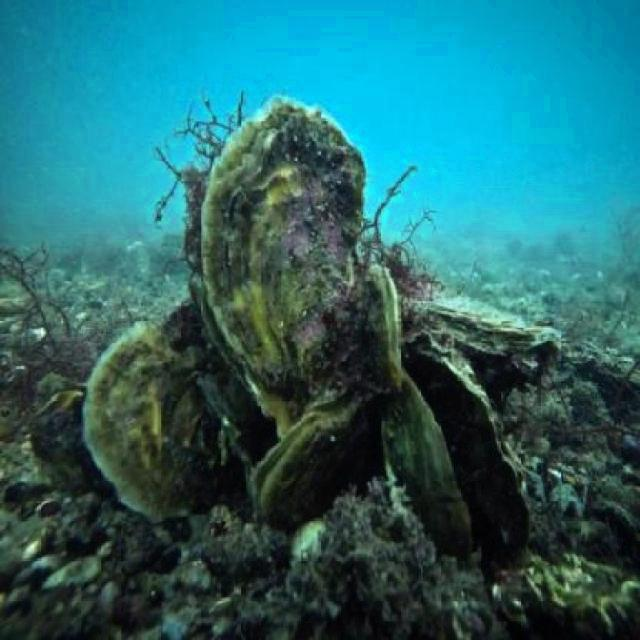Oyster-Closed: (197, 100, 367, 438), (84, 322, 226, 518), (407, 296, 555, 358), (365, 262, 401, 391)
Oyster-Open: (380, 351, 532, 569), (248, 387, 376, 529)
